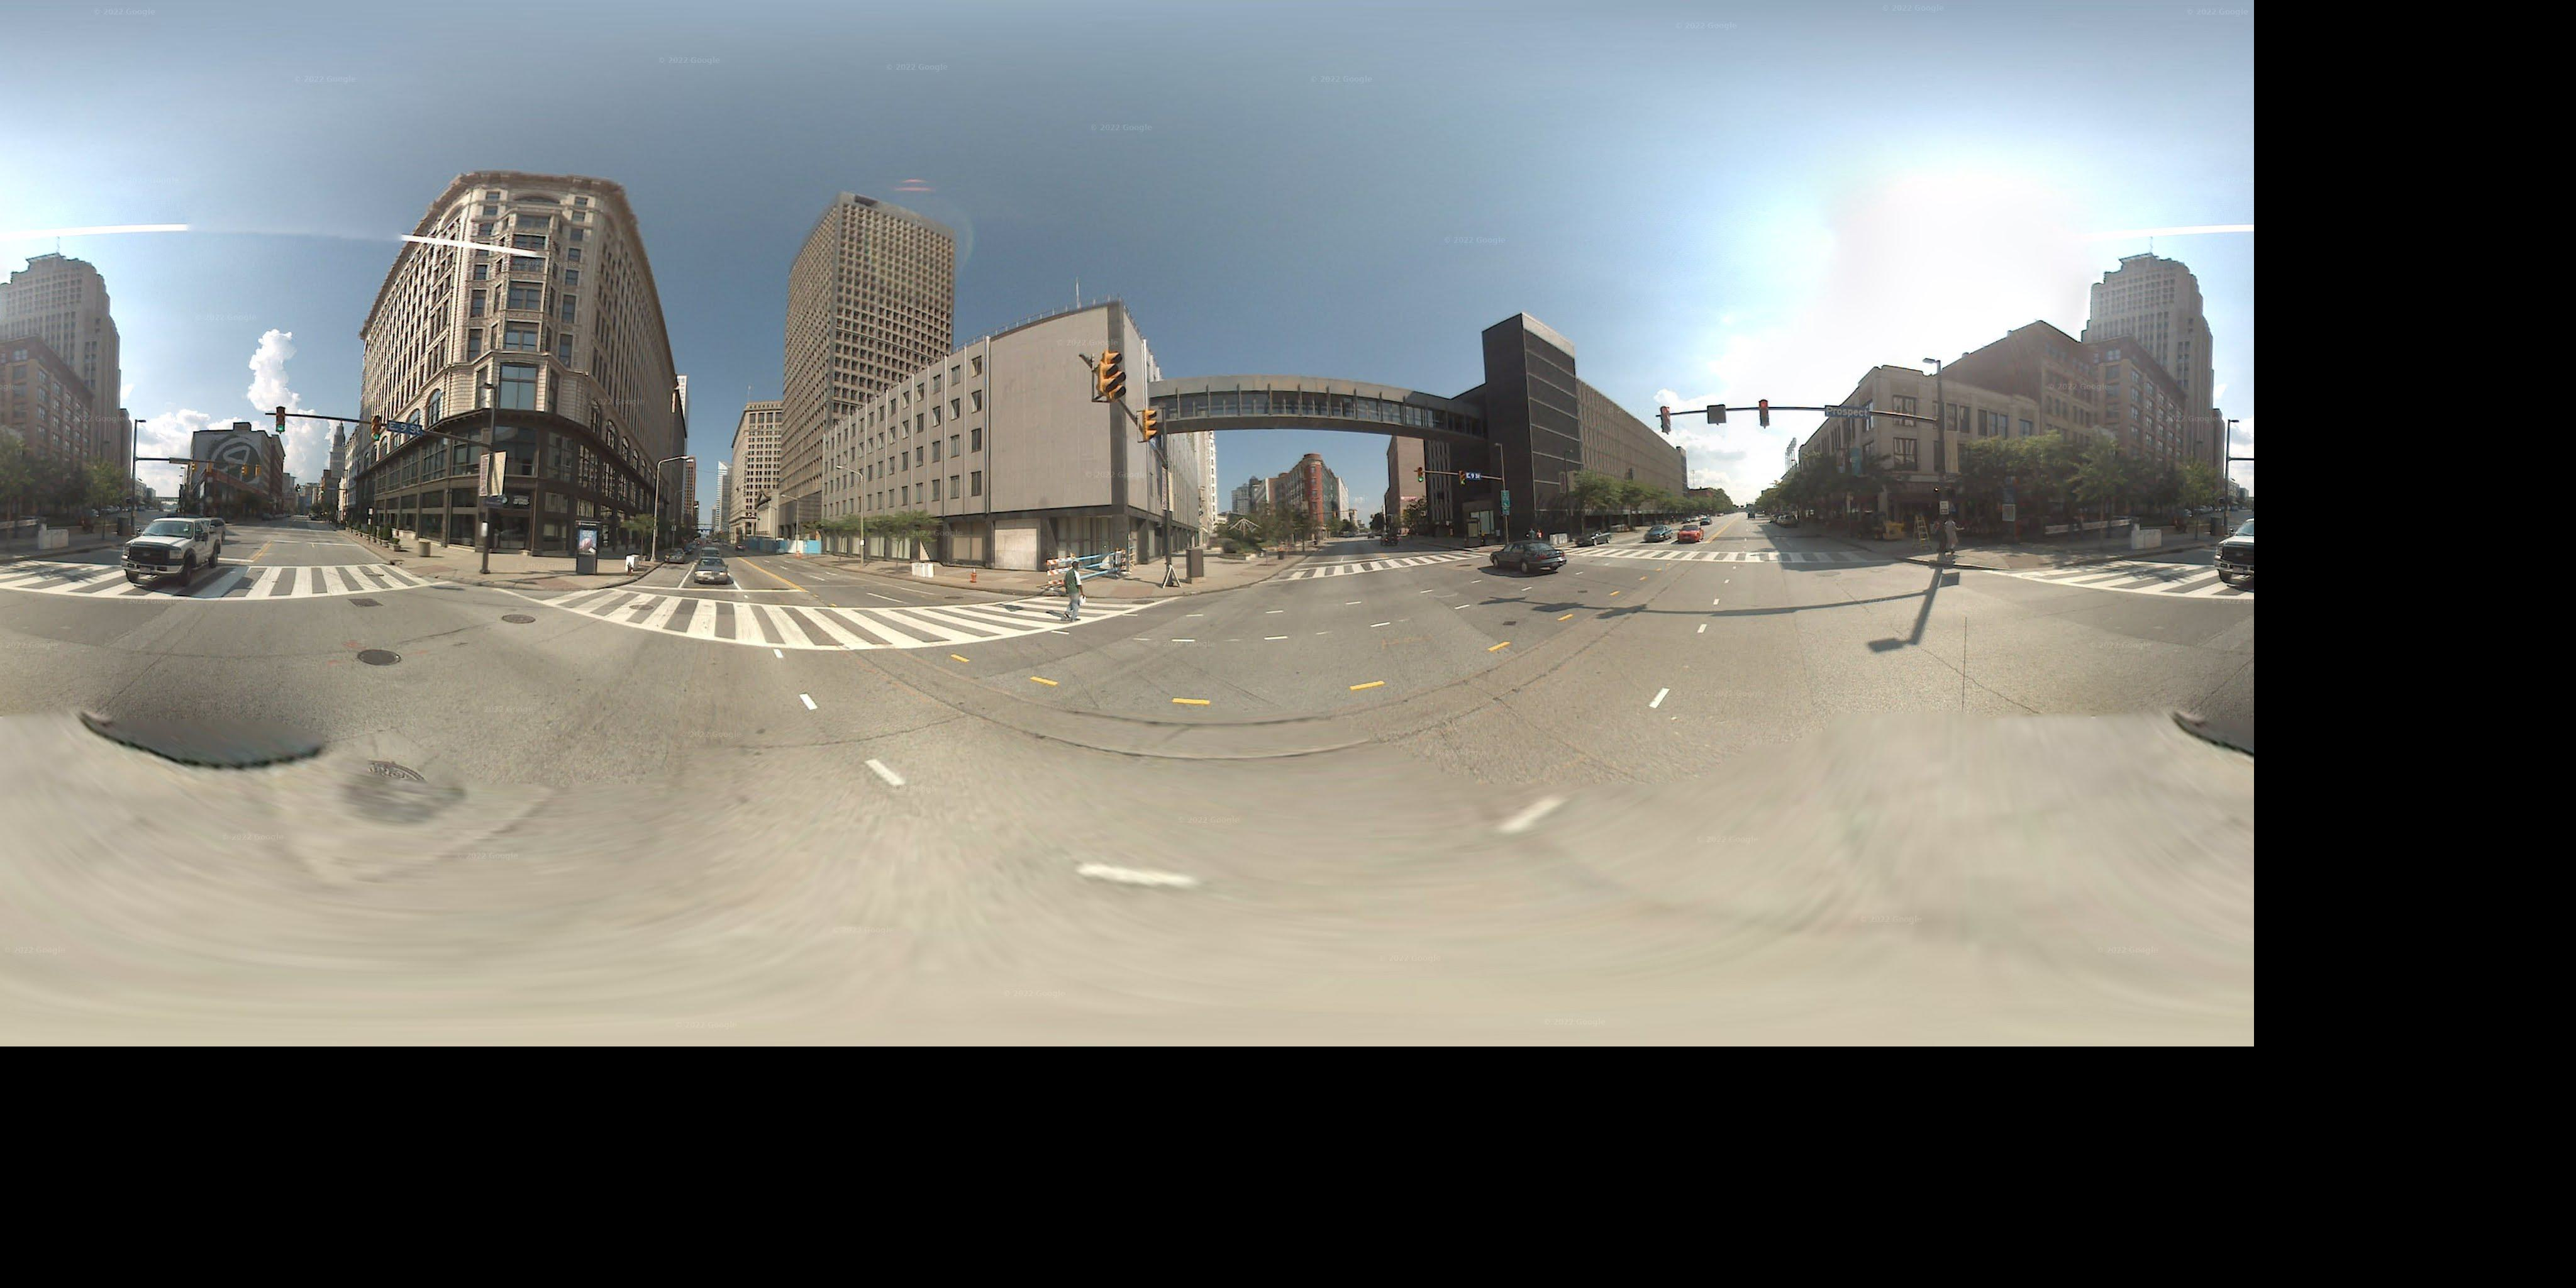Curb Ramp: (388, 554, 460, 585), (1101, 575, 1158, 608), (529, 575, 585, 600)
Missing Curb Ramp: (1252, 563, 1285, 585)
